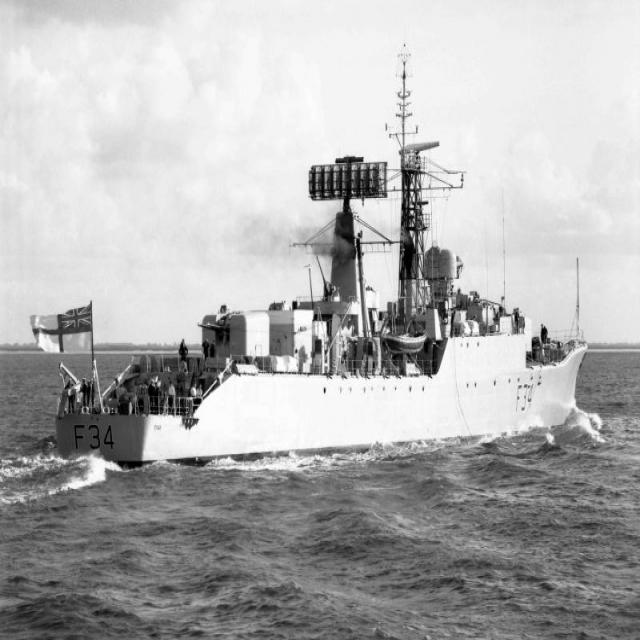Fragata: (41, 46, 590, 473)
